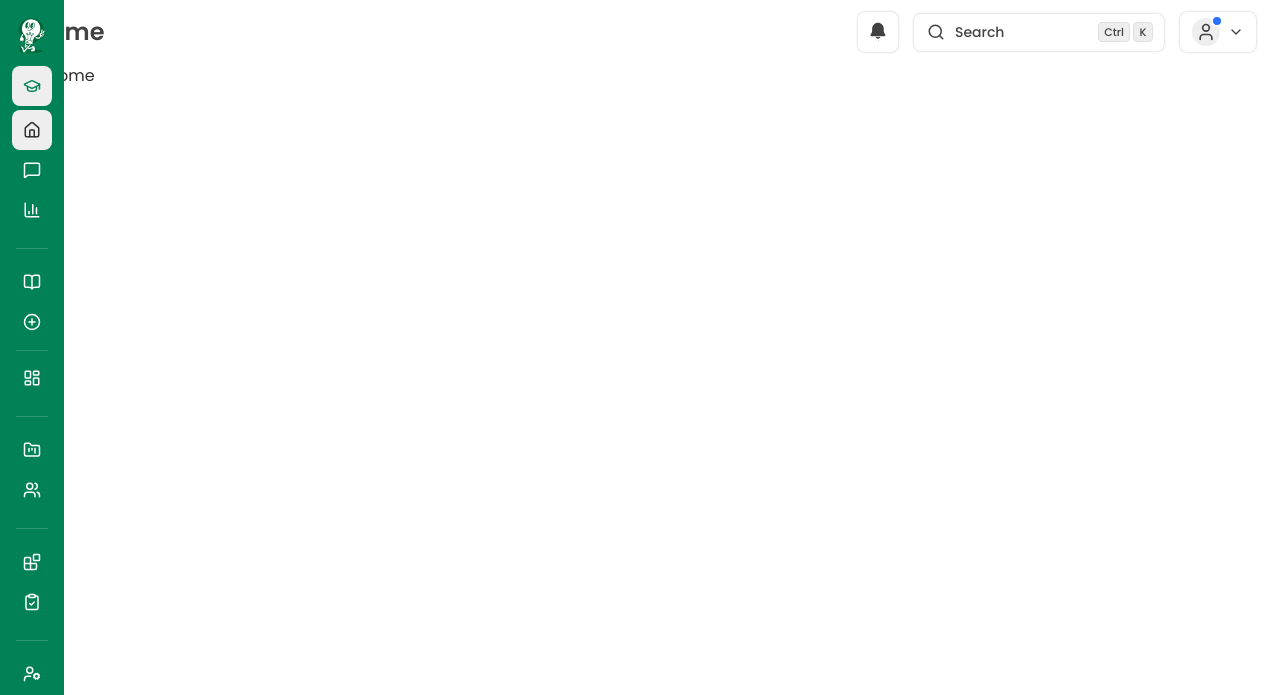
"View class as student" › ends with the banner's Exit preview on My Project and lands on Home
This screenshot has width=1280, height=695.
Click the button named "Profile menu". click: (1218, 32)
box: [1180,12,1256,52]
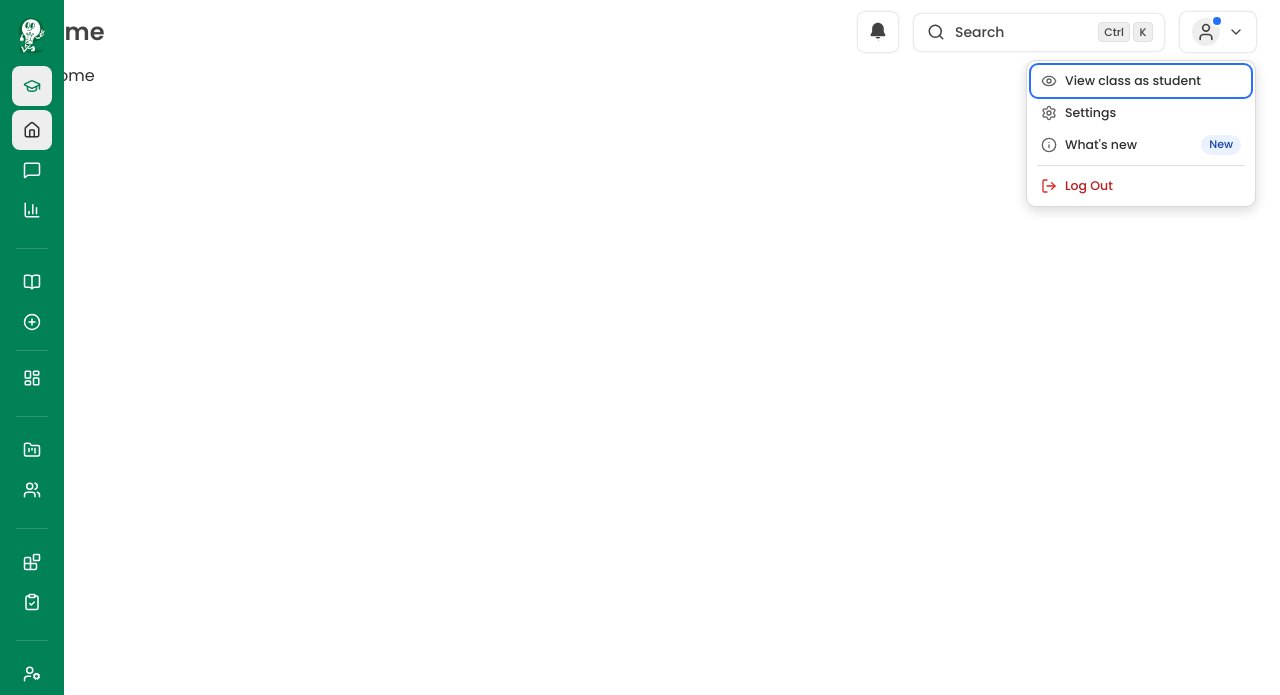
Click the menu item "View class as student". click: (1141, 81)
box: [1031,65,1251,97]
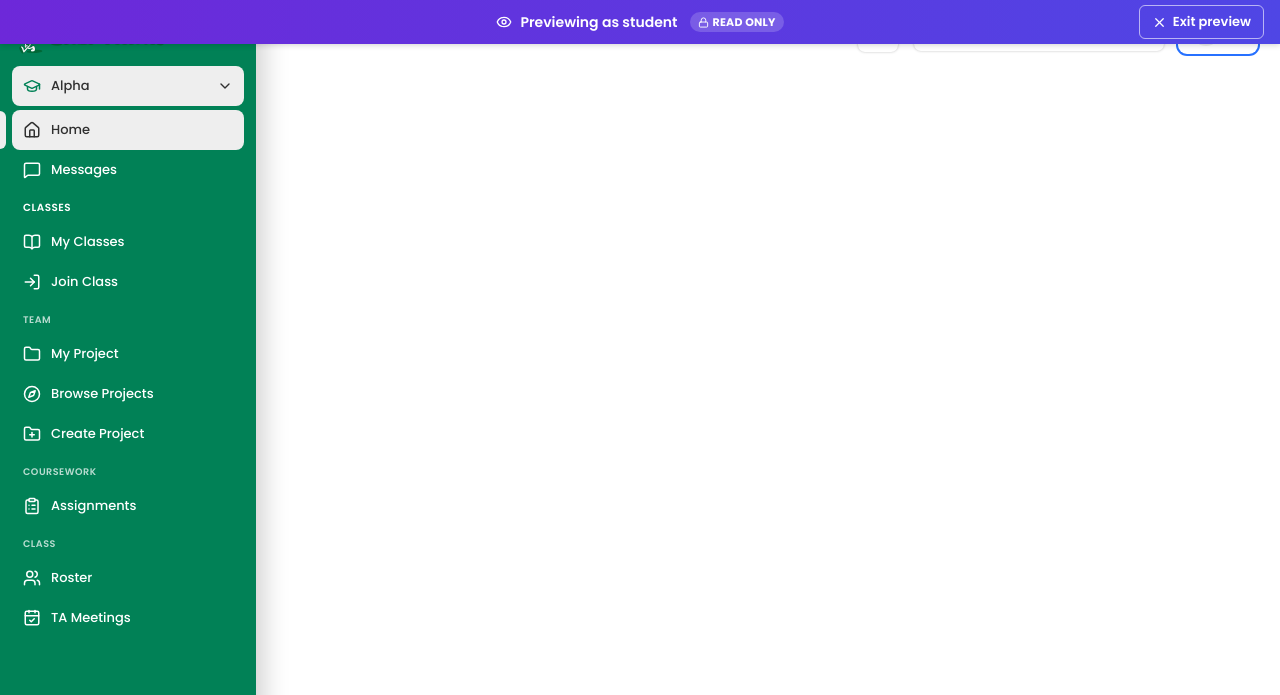
Check: the text with test id "page" reads "/app/home", box [0,64,95,87]
Click the button "My Project". click: (128, 354)
box: [12,334,244,374]
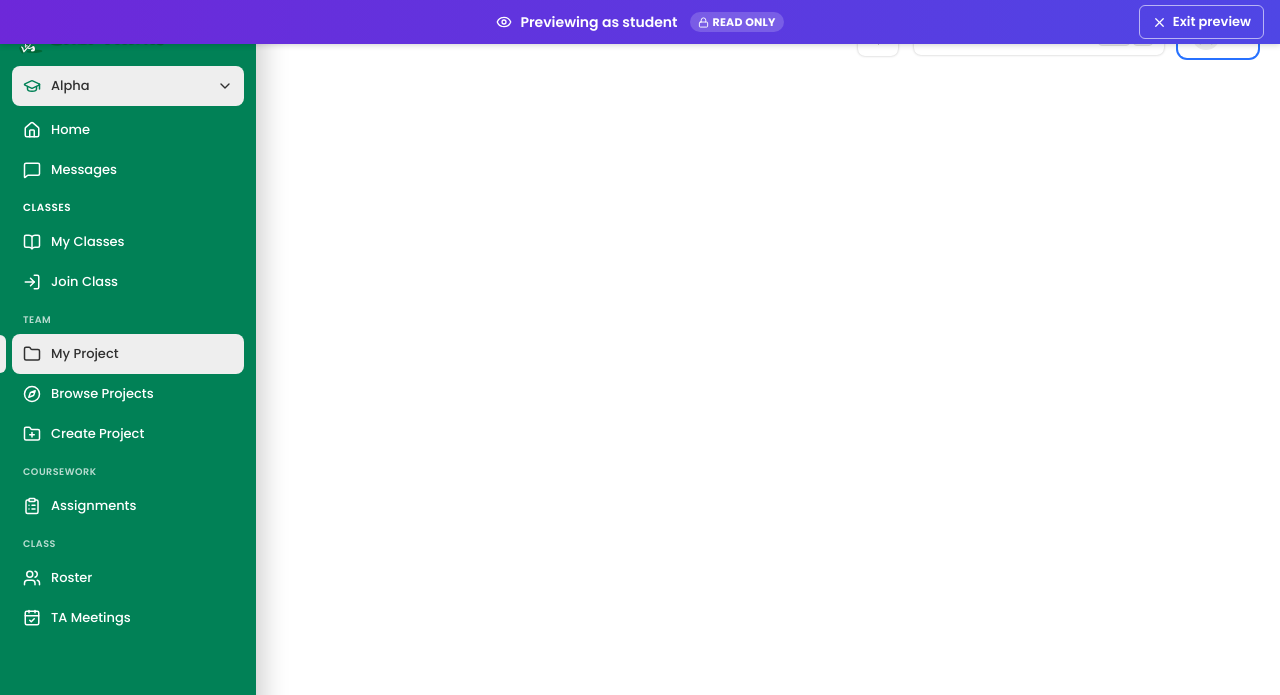
Check: the text with test id "page" reads "/app/my-project", box [0,66,138,89]
Click the button "Exit preview". click: (1202, 22)
box: [1139,5,1264,39]
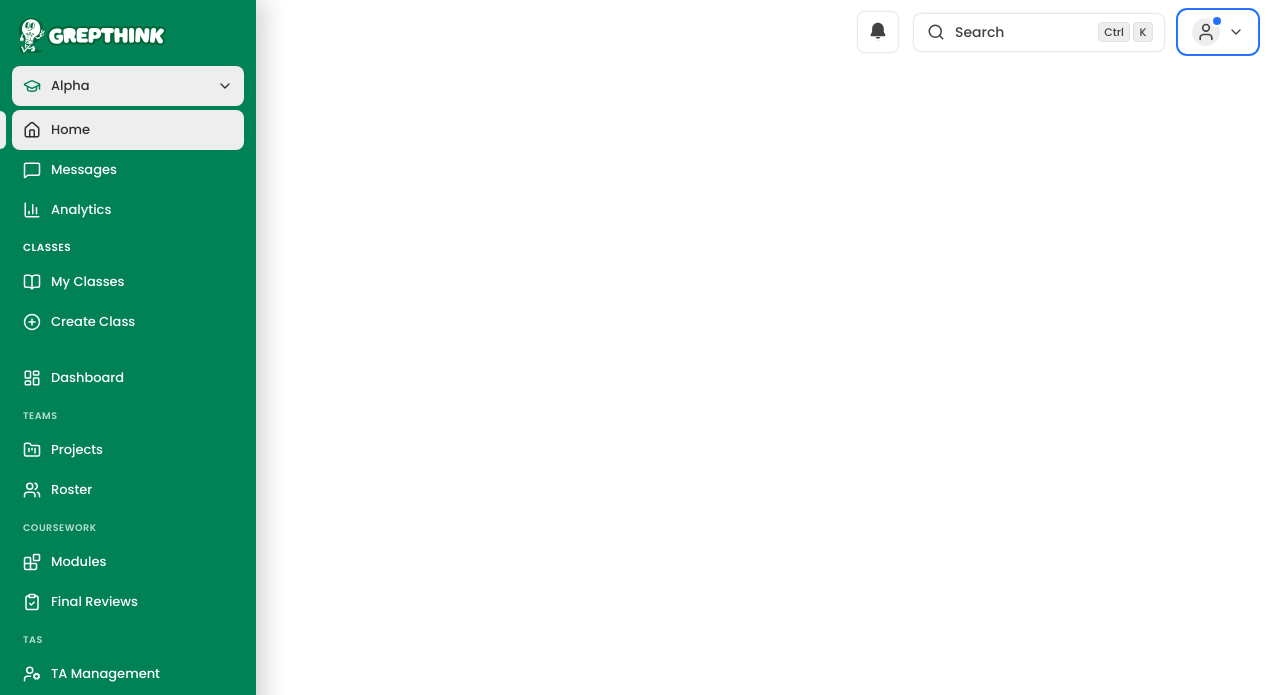
Check: the text with test id "page" reads "/app/home", box [0,64,95,87]
Check: the text "Previewing as student" is gone
